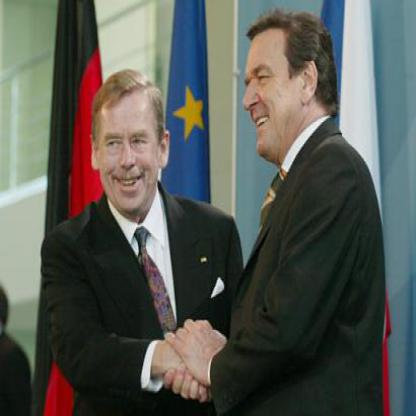face: (240, 19, 305, 160), (96, 79, 162, 214)
